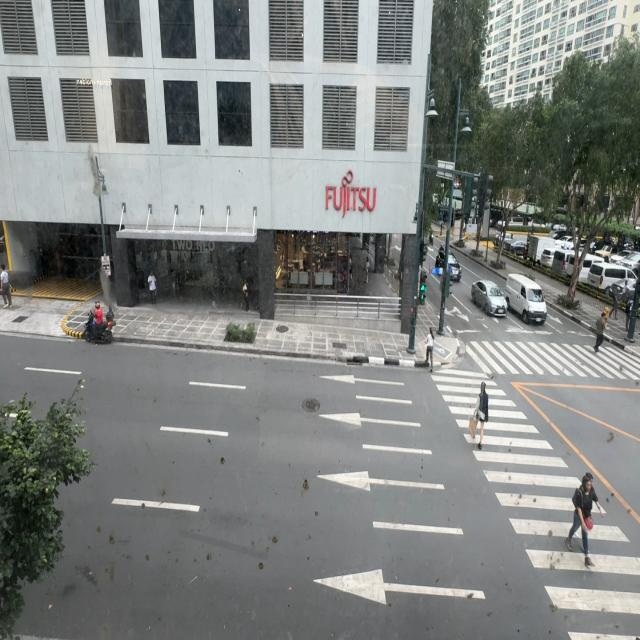crossing: (565, 470, 605, 564), (475, 381, 489, 448), (594, 305, 608, 350), (426, 327, 434, 371)
